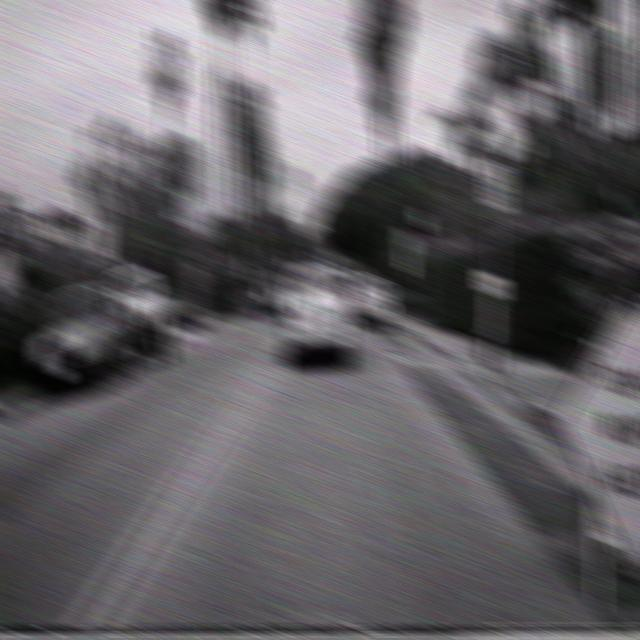stop: (397, 229, 417, 255)
